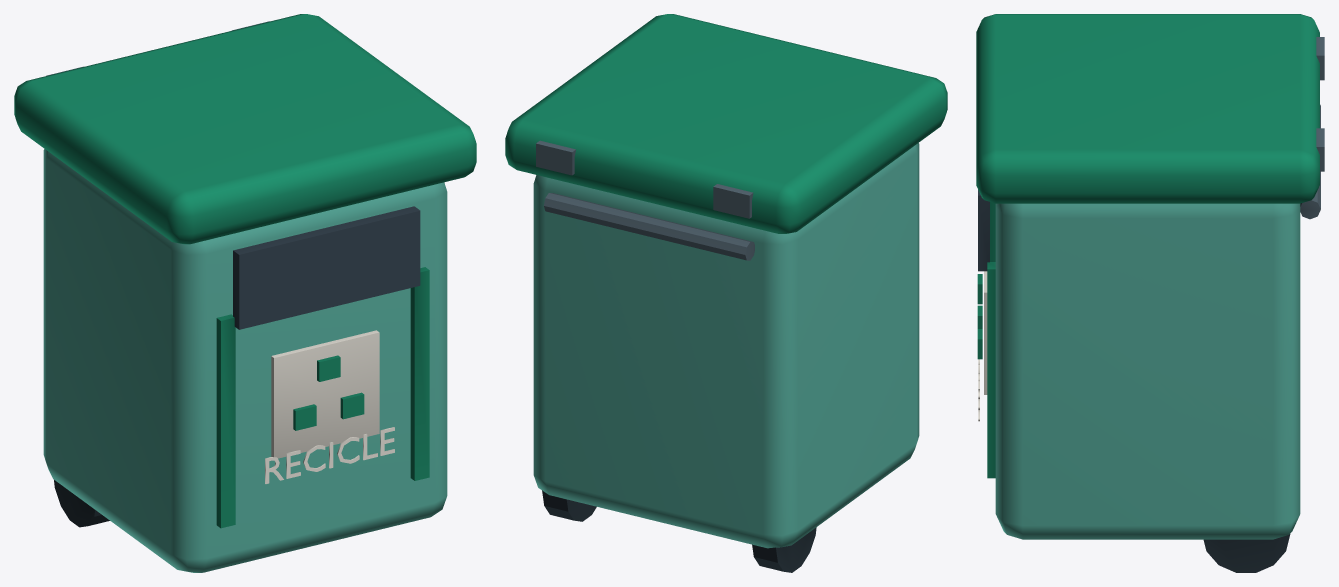
The model's file is waste-bin.glb.
3 views of the same model, side by side, from view 1: azimuth 30°, elevation 25°; view 2: azimuth 150°, elevation 25°; view 3: azimuth 270°, elevation 25° (orthographic). The views are drawn at different scales.
Parts seen in each view (by area): view 1: bin body, hinged lid, opening, recycling label, bin wheel; view 2: bin body, hinged lid, rear handle, bin wheel; view 3: bin body, hinged lid, bin wheel, rear handle, opening, recycling label.
Boxes of the visible parts, x1,y1,x2,y2 form: bin body: [43, 149, 447, 572]; hinged lid: [14, 14, 476, 528]; opening: [233, 206, 420, 329]; recycling label: [265, 330, 394, 483]; bin wheel: [54, 480, 109, 527]; bin body: [533, 143, 919, 548]; hinged lid: [505, 14, 947, 233]; rear handle: [536, 140, 754, 260]; bin wheel: [542, 490, 816, 572]; bin body: [995, 203, 1300, 539]; hinged lid: [976, 14, 1319, 478]; bin wheel: [1203, 534, 1290, 572]; rear handle: [1300, 37, 1324, 219]; opening: [978, 190, 989, 271]; recycling label: [978, 271, 987, 421].
Size of the model in its own units: 0.73 by 0.9677 by 0.71.
